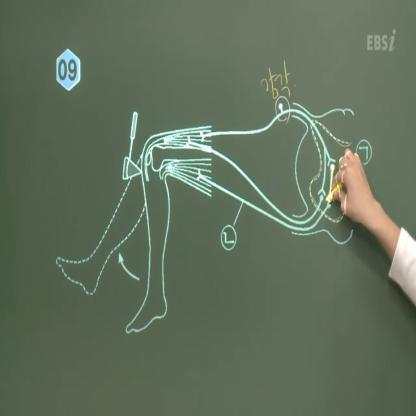streamer: (326, 145, 416, 308)
